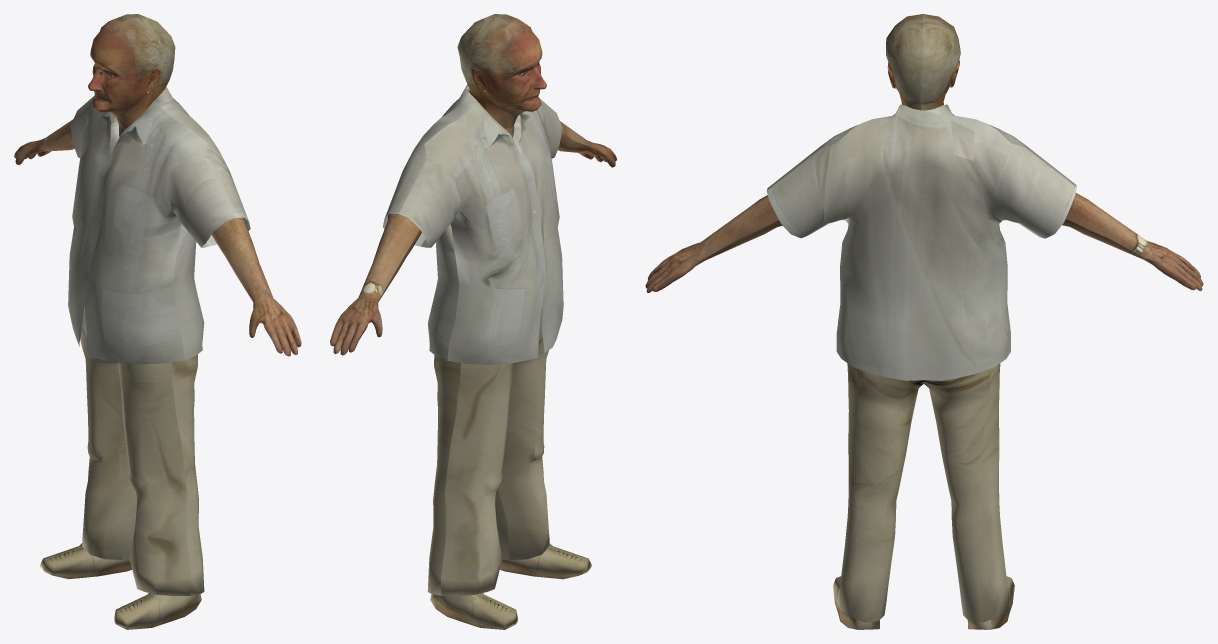
File: OldMan.fbx
3 renders of one model, left to right at view 1: azimuth 30°, elevation 25°; view 2: azimuth 150°, elevation 25°; view 3: azimuth 270°, elevation 25°, orthographic. The views are drawn at different scales.
Parts seen in each view (by area): view 1: Object_20110809025439500246.jpg; view 2: Object_20110809025439500246.jpg; view 3: Object_20110809025439500246.jpg.
Boxes of the visible parts, <box> form: Object_20110809025439500246.jpg: <box>14,14,301,629</box>; Object_20110809025439500246.jpg: <box>330,14,616,629</box>; Object_20110809025439500246.jpg: <box>645,14,1203,629</box>.
Size of the model in its own units: 0.4834 by 2.5 by 2.12.
1 material, 1 textured.
